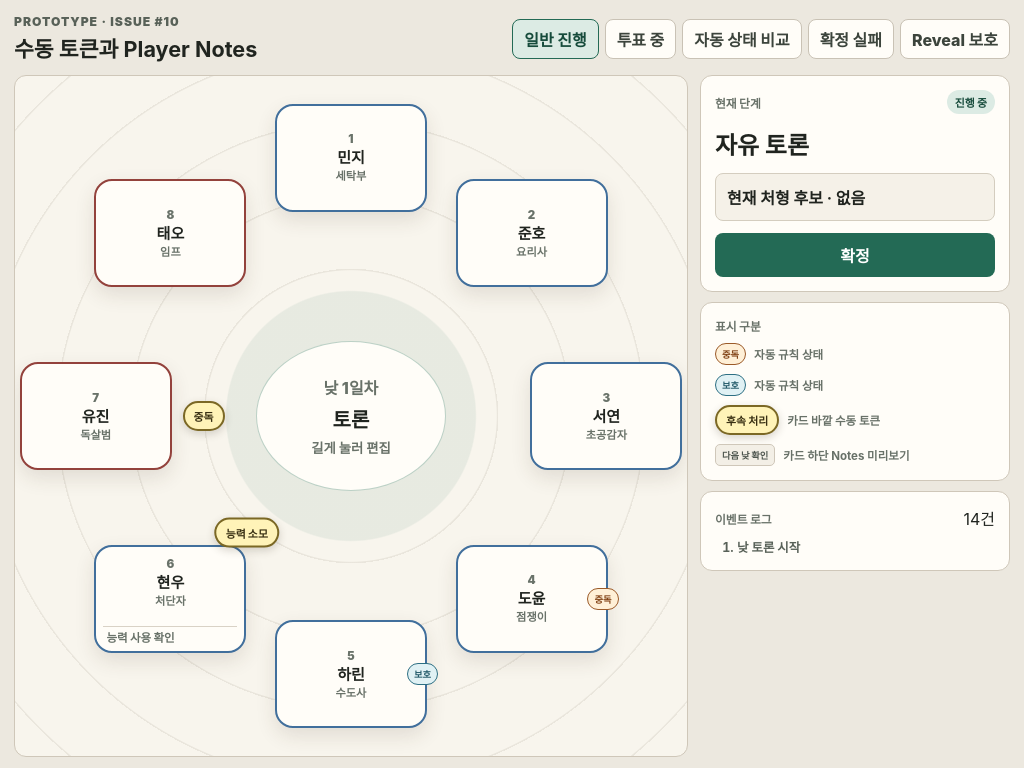
Test: opens a Player annotation sheet only from a seat long-press
Press the mouse on the button with aria-label "2번 준호 좌석 선택" at (532, 233), box left=458, top=181, right=606, bottom=285
Wait 550 ms
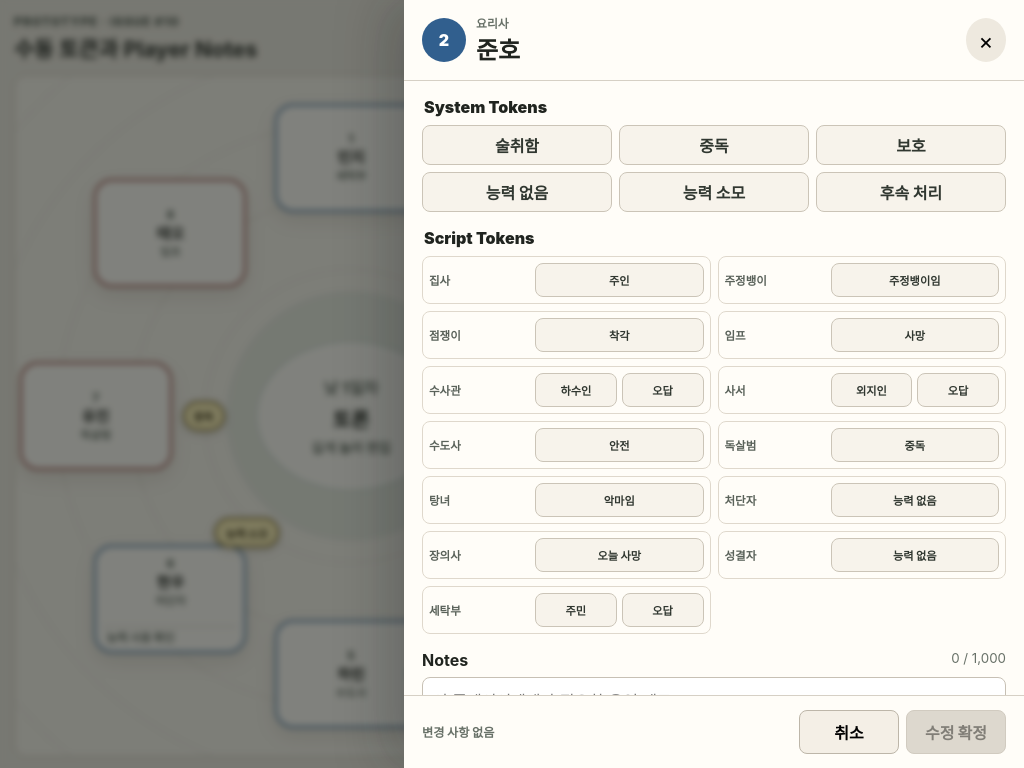
Expected: the element "System Tokens" is shown, left=422, top=97, right=1006, bottom=212
Expected: the element "Script Tokens" is shown, left=422, top=228, right=1006, bottom=634
Expected: the button "수정 확정" is disabled, left=906, top=710, right=1006, bottom=754
